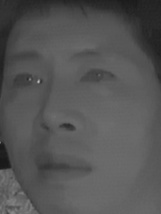eye: (76, 64, 118, 92), (9, 70, 46, 93)
mouth: (30, 145, 92, 189)
